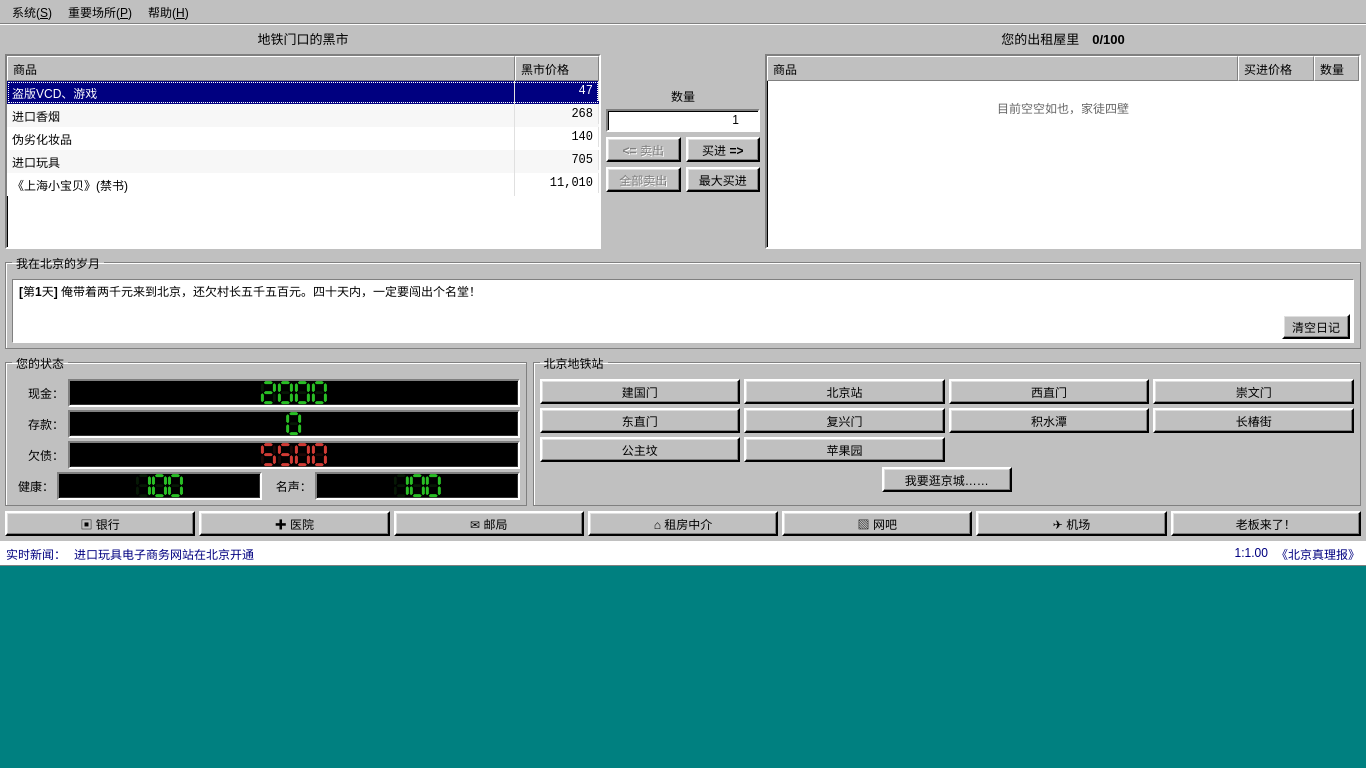
Test case: GameWindow airport integration › opens and closes airport information without changing game state
The image size is (1366, 768).
Click the button "✈ 机场" at [1072, 523], box [976, 511, 1167, 536]
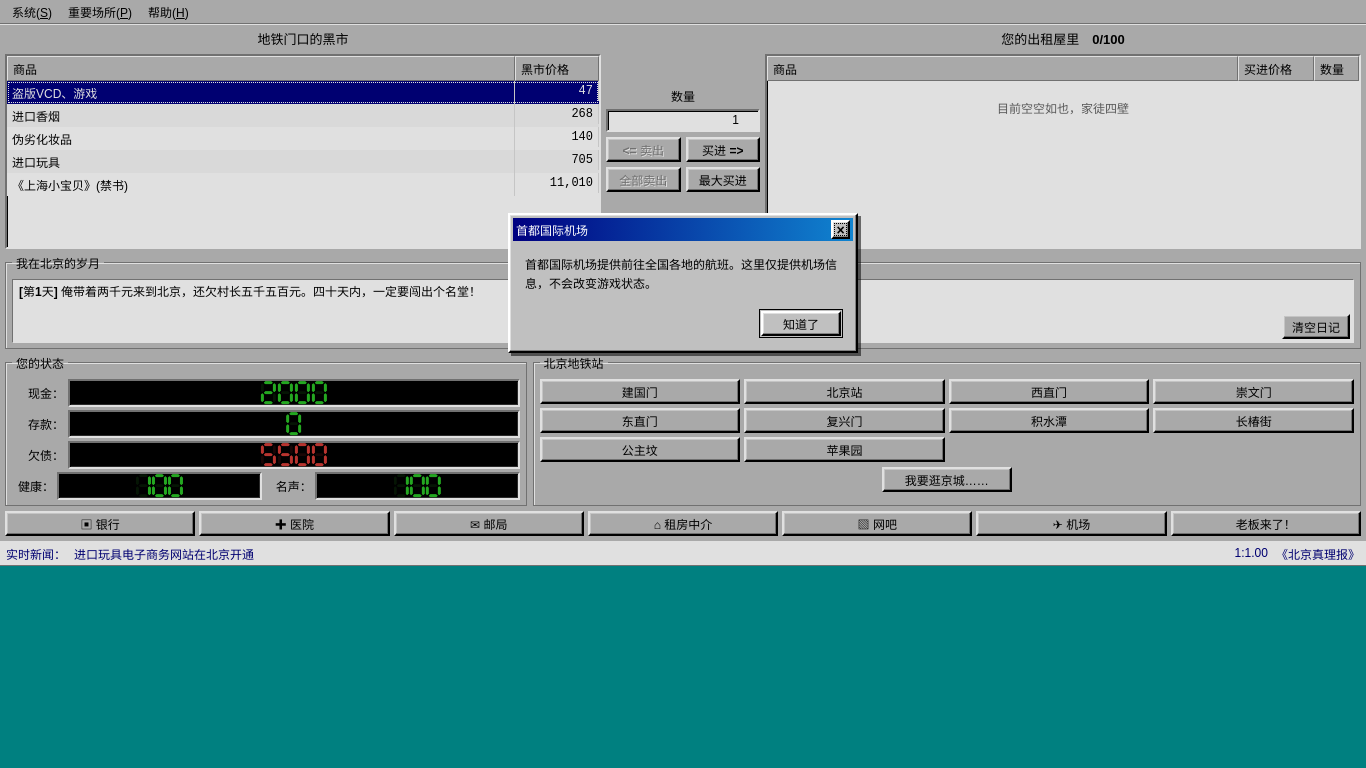
Check: the dialog named "首都国际机场" is shown, box [508, 213, 858, 352]
Check: the button "知道了" is shown
Click the button "知道了" at [801, 323], box [761, 310, 841, 336]
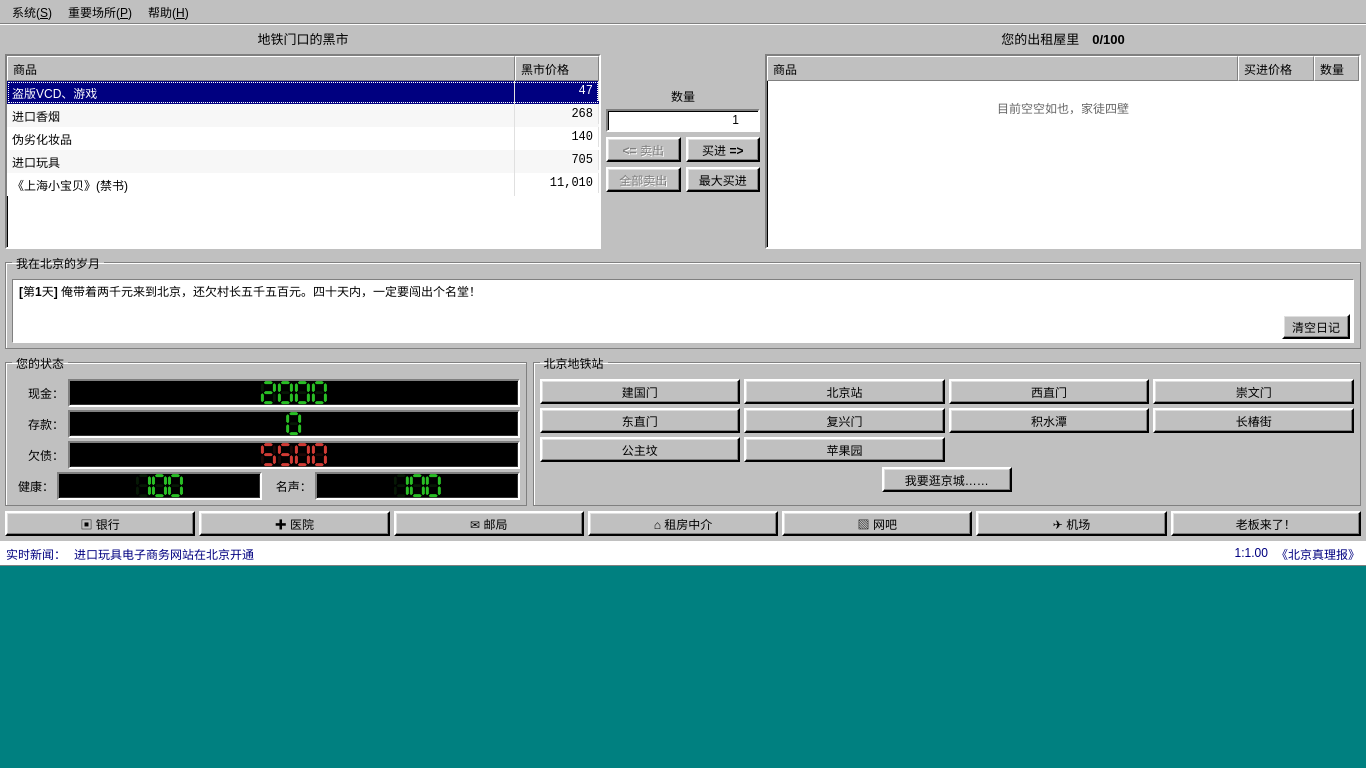
Check: the dialog named "首都国际机场" is gone
